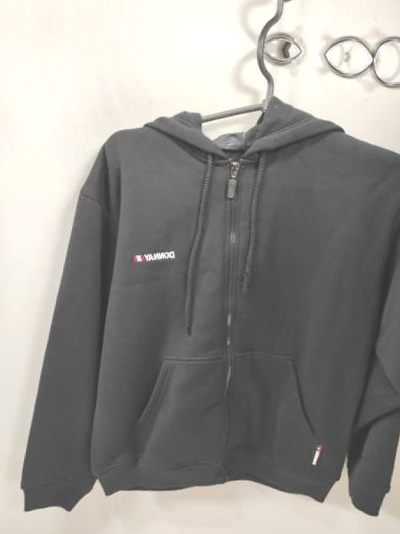Hoodie: (0, 68, 400, 534), (0, 20, 37, 528), (59, 0, 400, 23)
